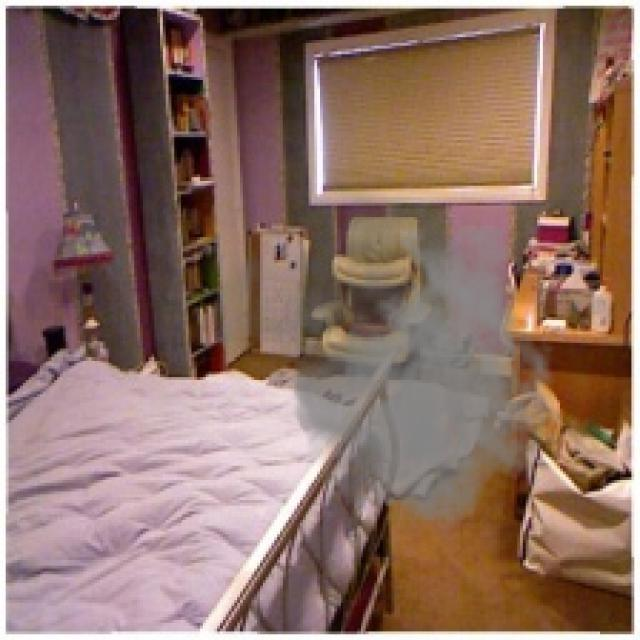Smoke: (197, 182, 563, 548)
